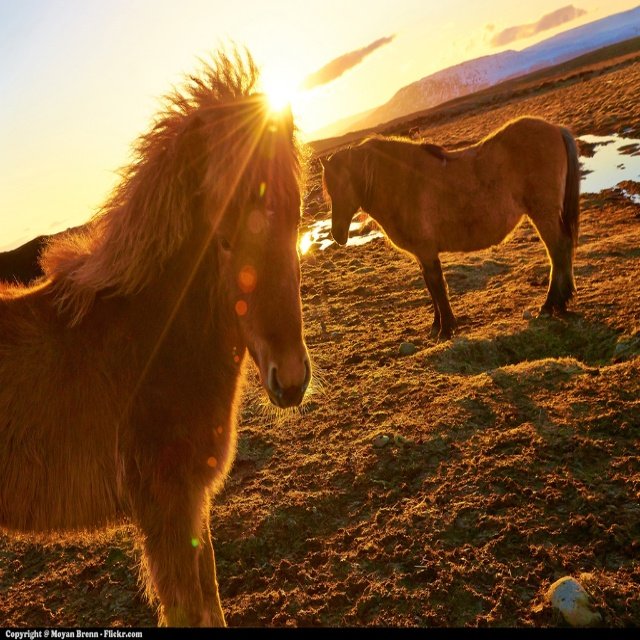Horse: (0, 31, 324, 633), (319, 106, 587, 338)
